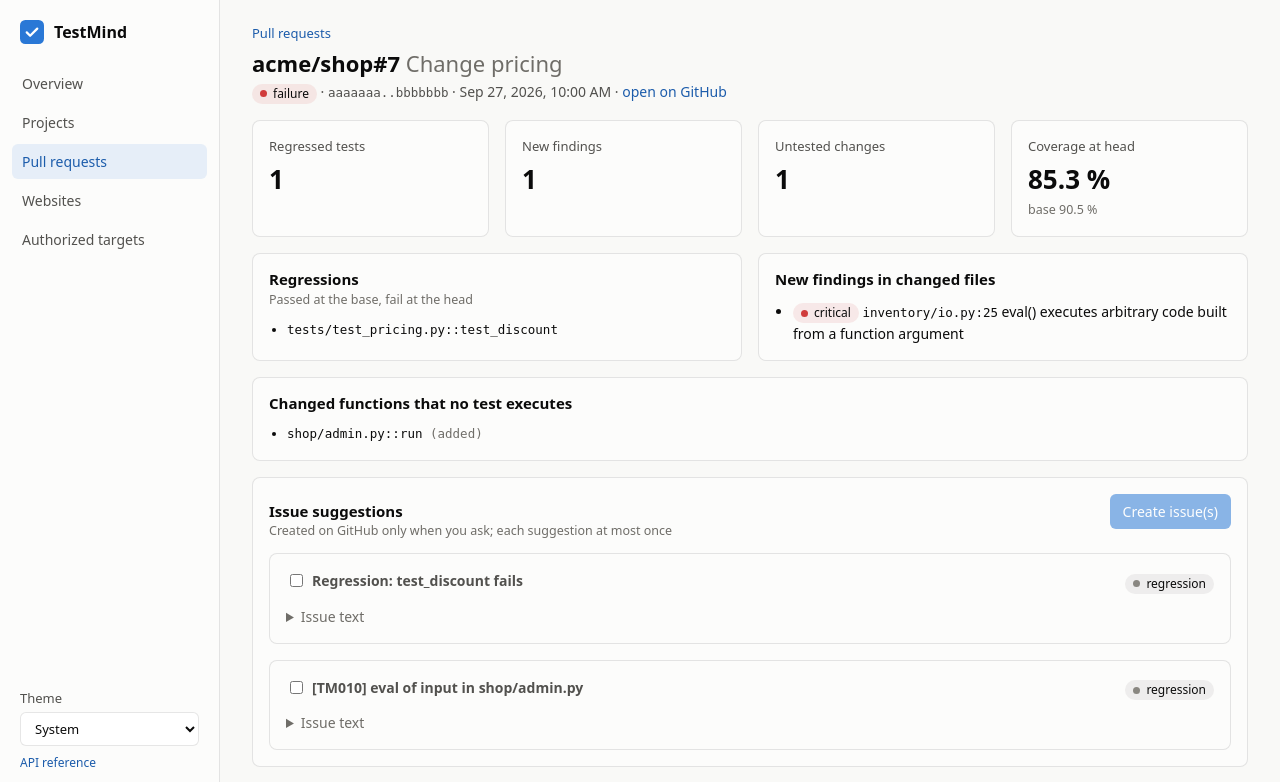
Test: Pull request analysis › shows GitHub's refusal to create an issue
The image size is (1280, 782).
Click the checkbox labelled "Regression: test_discount fails".
click(296, 580)  # box [290,574,303,587]
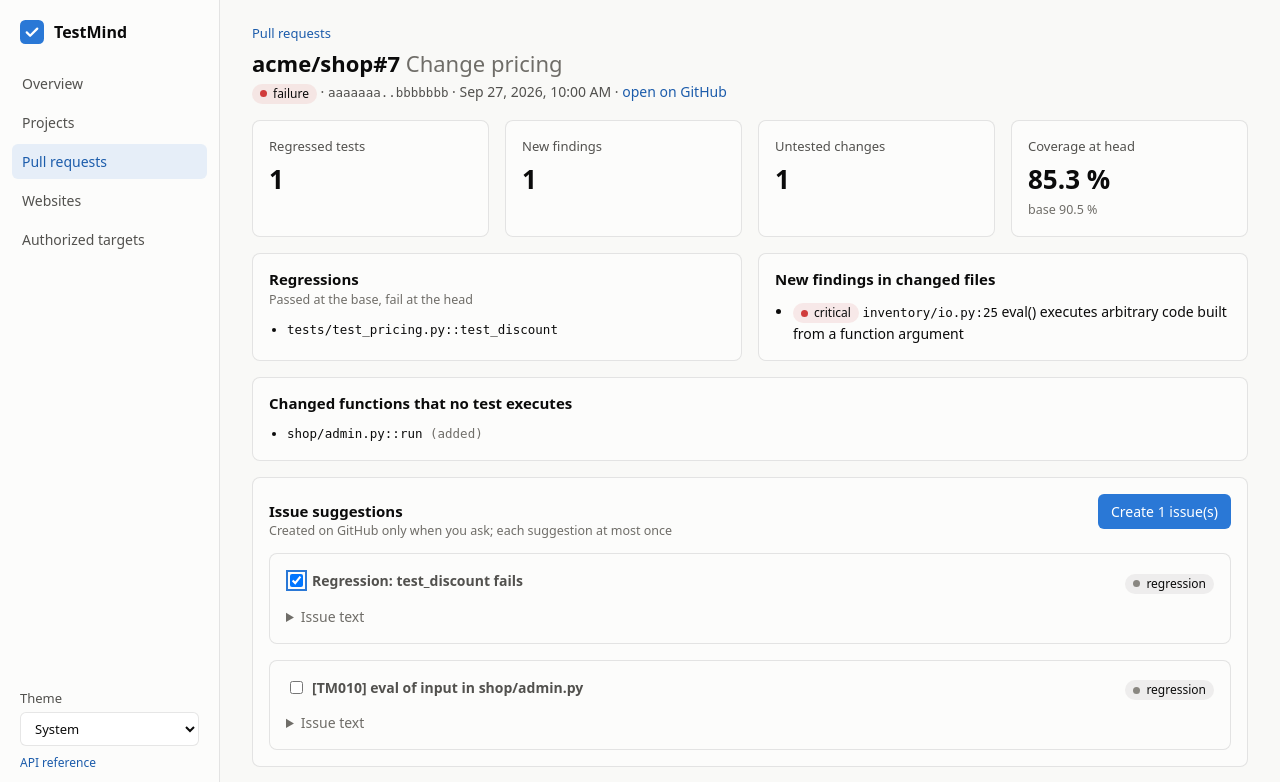
Click the button "Create 1 issue(s)".
click(1164, 511)  # box [1098,494,1231,528]
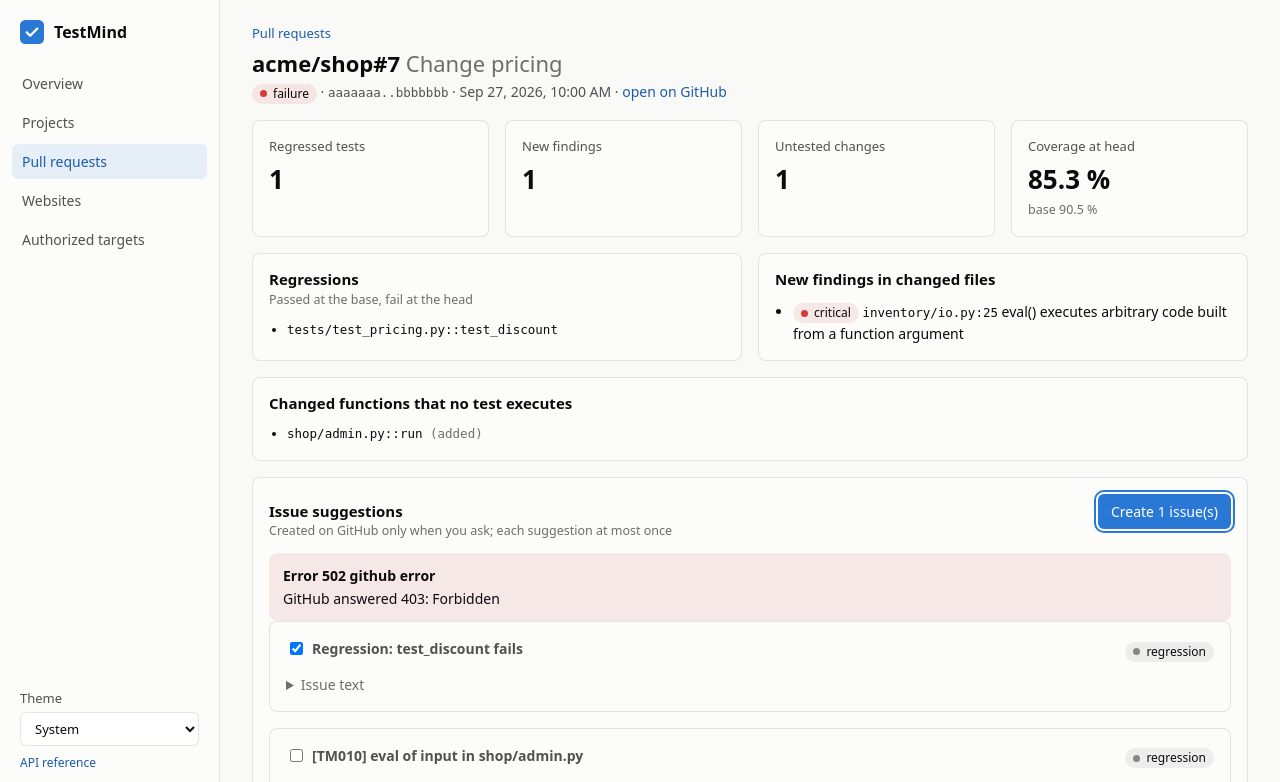
Result: the text "GitHub answered 403: Forbidden" is shown at [283,589,500,608]
